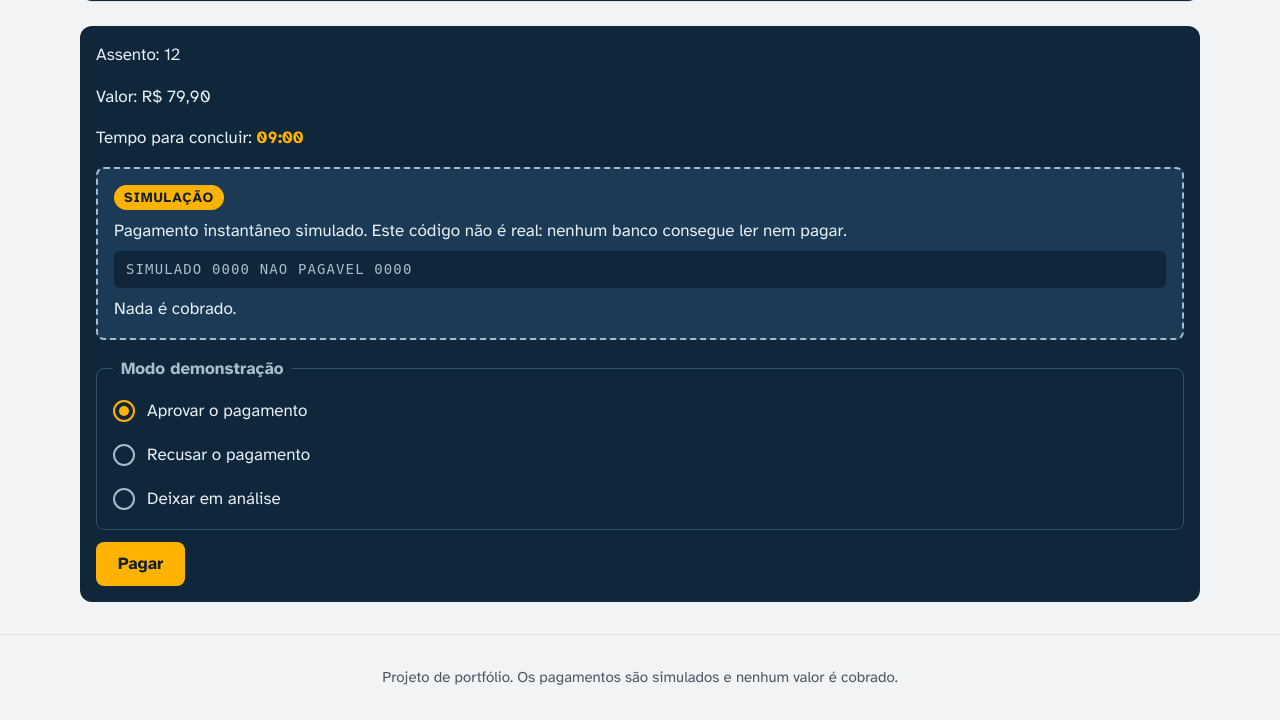
Test: PaymentPage: resultado do pagamento › em análise: troca Pagar por "Atualizar situação" e não deixa pagar de novo
The width and height of the screenshot is (1280, 720).
(page scrolled)
Click the button "Pagar": (141, 564) [96,542,186,586]
(page scrolled)
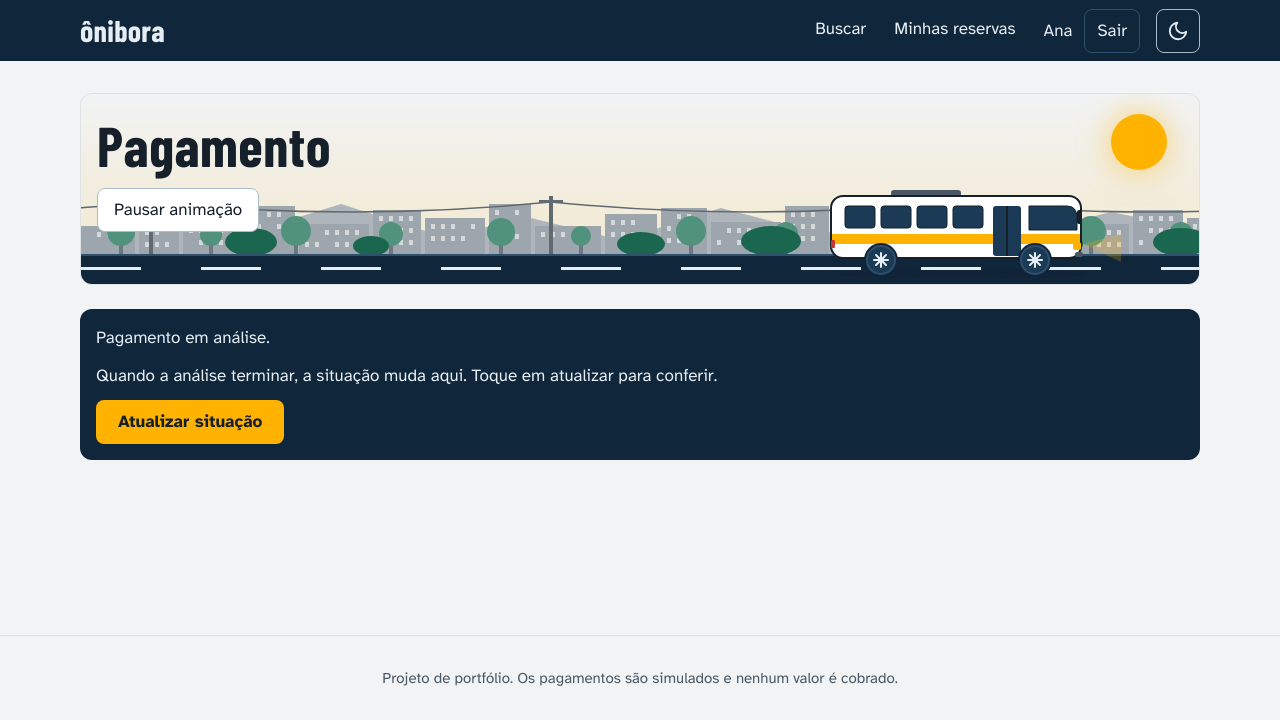
Expected: the message reads "Pagamento em análise.", [96,327,270,348]
Expected: the text "Pagar" is gone
Expected: the text "Modo demonstração" is gone
